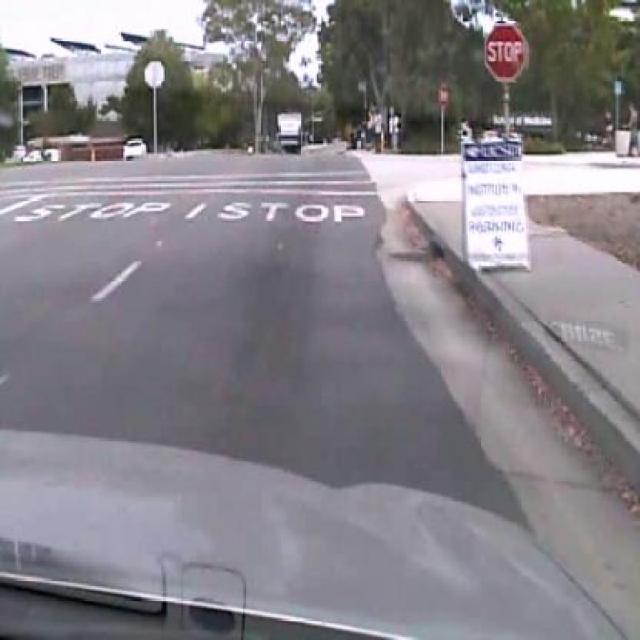stop: (486, 25, 529, 83)
